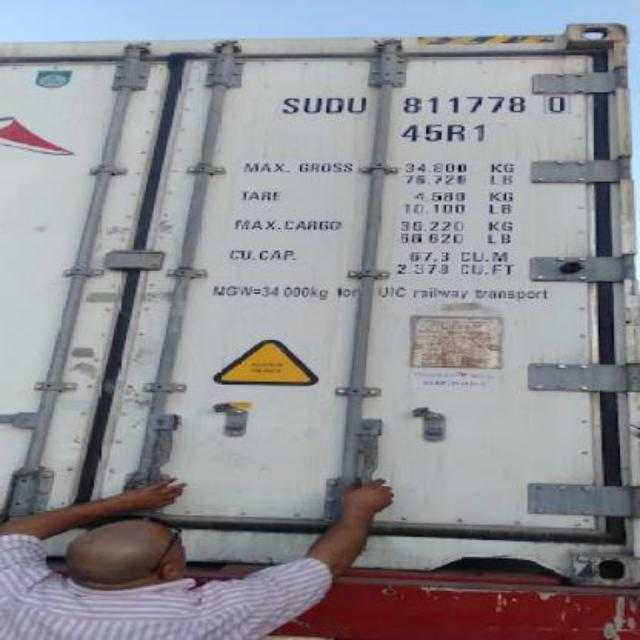0: (550, 95, 570, 113)
1: (428, 94, 444, 114), (451, 94, 464, 114)
7: (488, 94, 508, 115), (464, 95, 484, 113)
8: (402, 96, 422, 114), (508, 95, 528, 113)
D: (324, 97, 346, 113)
S: (280, 94, 300, 116)
U: (302, 95, 326, 115), (348, 95, 368, 115)
